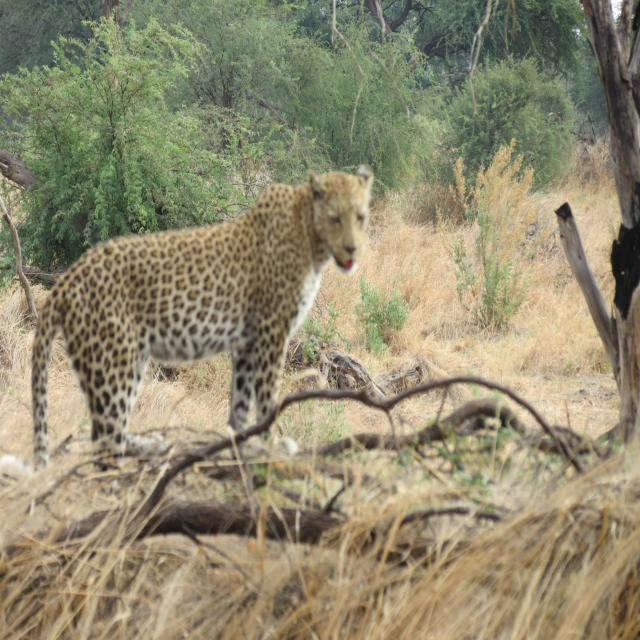Leopard: (8, 159, 374, 477)
